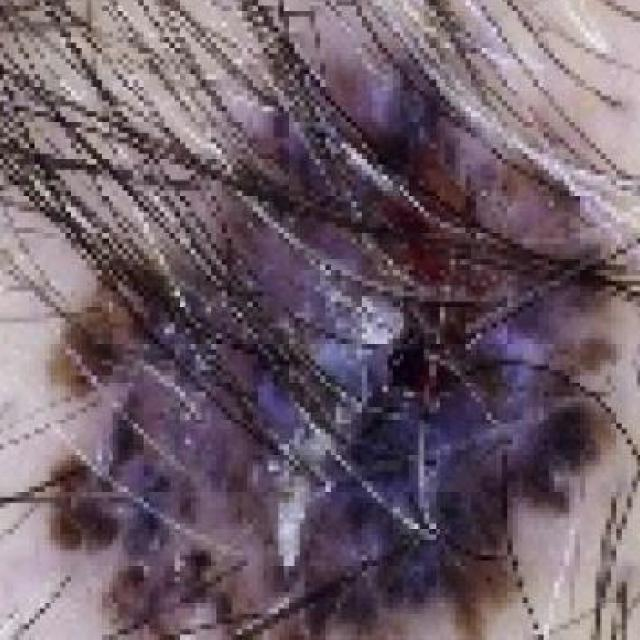BCC: (36, 0, 616, 640)
